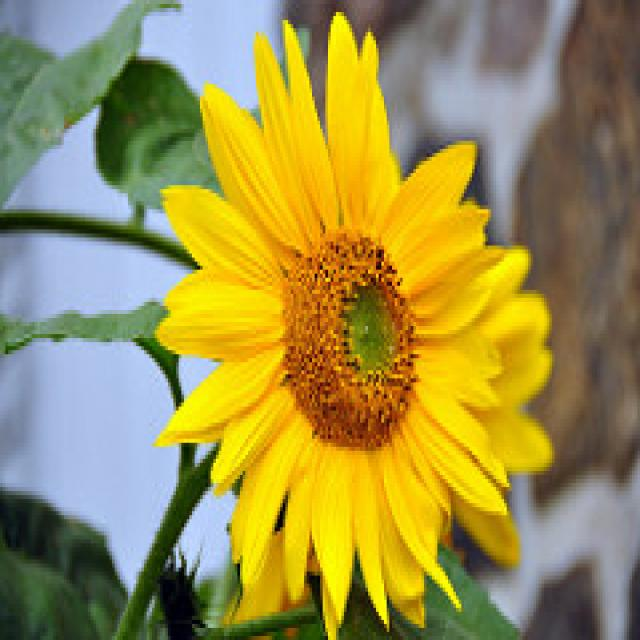sunflower: (160, 14, 555, 638)
